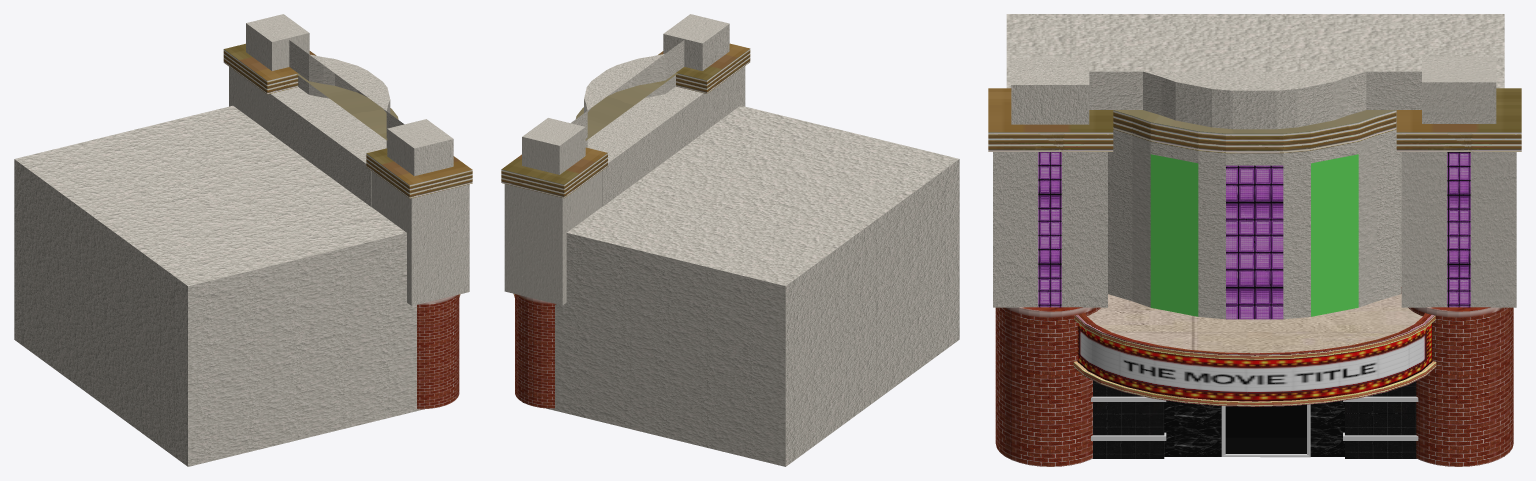
File: Kake exterior.fbx
3 renders of one model, left to right at view 1: azimuth 30°, elevation 25°; view 2: azimuth 150°, elevation 25°; view 3: azimuth 270°, elevation 25°, orthographic. The views are drawn at different scales.
Parts seen in each view (by area): view 1: Cube.005, Cube, Cylinder.005, Cylinder.004, Cube.001, Cube.004, Cube.003, Cylinder.009; view 2: Cube.005, Cube.001, Cylinder.005, Cylinder.003, Cube, Cube.003, Cube.004, Cylinder.009; view 3: Cylinder.005, Cube.005, Cube, Cube.001, Cylinder.002, Cylinder.004, Cylinder.003, Cylinder.001, Cylinder.007, Cylinder.006, Cylinder.009, Cylinder.008 (+10 smaller).
Part boxes in pixels (x1,y1,x2,y2): Cube.005: [14, 105, 423, 466]; Cube: [371, 119, 469, 305]; Cylinder.005: [268, 40, 404, 206]; Cylinder.004: [417, 294, 459, 409]; Cube.001: [229, 14, 309, 131]; Cube.004: [366, 148, 472, 198]; Cube.003: [223, 43, 316, 94]; Cylinder.009: [296, 73, 398, 140]; Cube.005: [550, 105, 959, 466]; Cube.001: [504, 118, 602, 305]; Cylinder.005: [571, 40, 705, 206]; Cylinder.003: [515, 294, 556, 408]; Cube: [663, 14, 745, 130]; Cube.003: [501, 147, 607, 198]; Cube.004: [658, 43, 750, 93]; Cylinder.009: [576, 73, 677, 140]; Cylinder.005: [1089, 71, 1421, 319]; Cube.005: [1006, 14, 1504, 88]; Cube: [993, 57, 1107, 307]; Cube.001: [1401, 56, 1516, 307]; Cylinder.002: [1077, 323, 1432, 401]; Cylinder.004: [995, 307, 1100, 466]; Cylinder.003: [1401, 287, 1513, 466]; Cylinder.001: [1087, 294, 1422, 353]; Cylinder.007: [1226, 165, 1283, 319]; Cylinder.006: [1150, 154, 1198, 316]; Cylinder.009: [1113, 110, 1396, 153]; Cylinder.008: [1311, 154, 1358, 316].
Bounding box in the file's own units: 2052 × 1534 × 1967.
